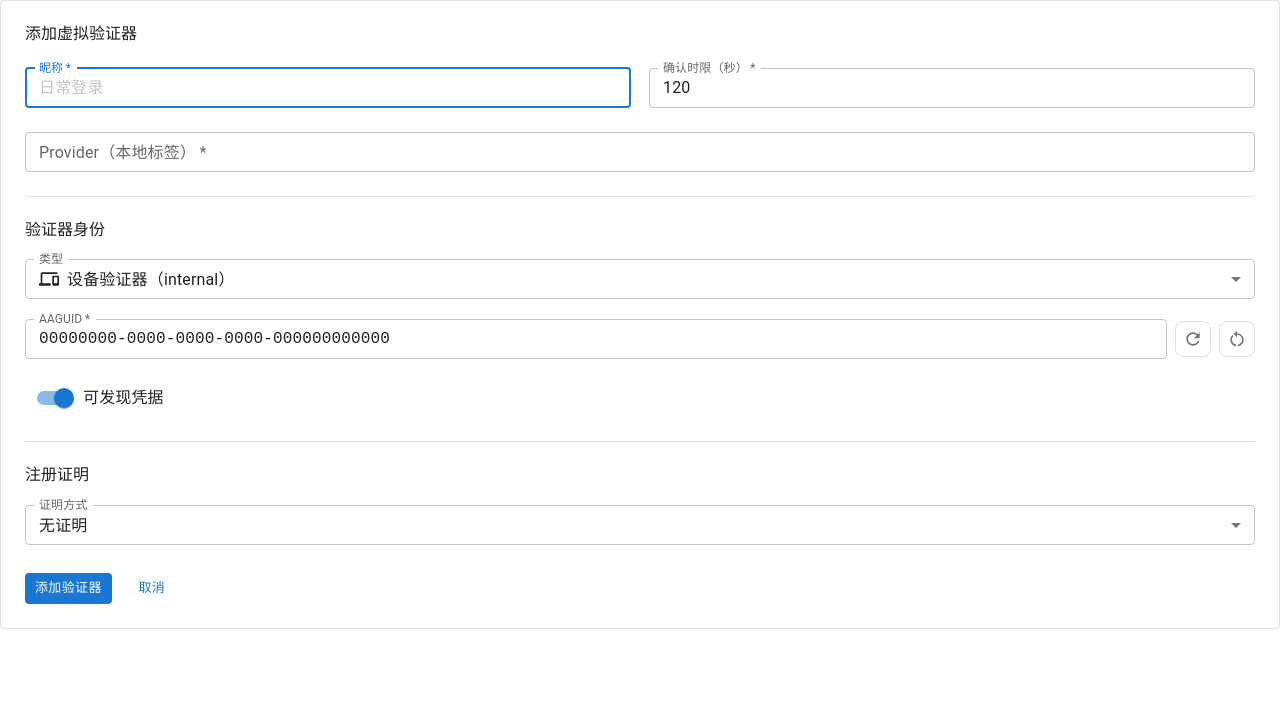
Test: Material UI key form › generates a v4 UUID and permits explicit zero identity
The width and height of the screenshot is (1280, 720).
Click the button named "随机生成 AAGUID".
click(1193, 339)  # box [1175,321,1211,357]
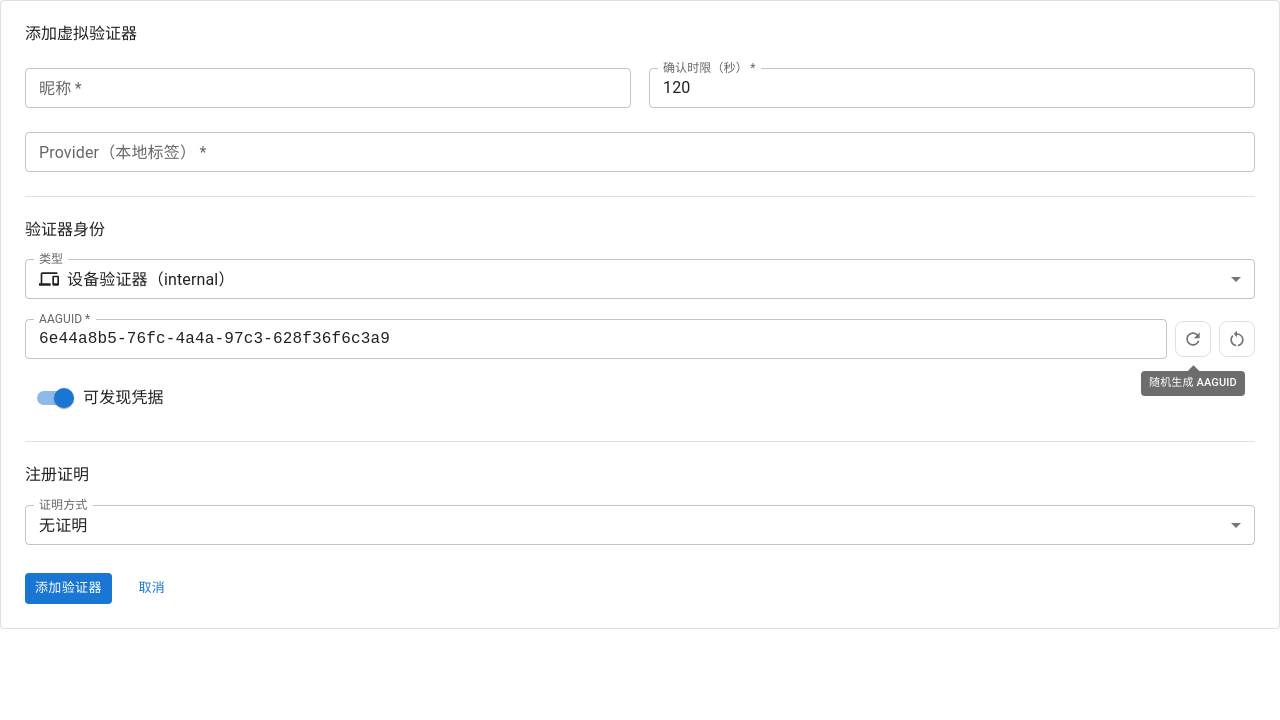
Click the button named "重置为全零 AAGUID".
click(1237, 339)  # box [1219,321,1255,357]
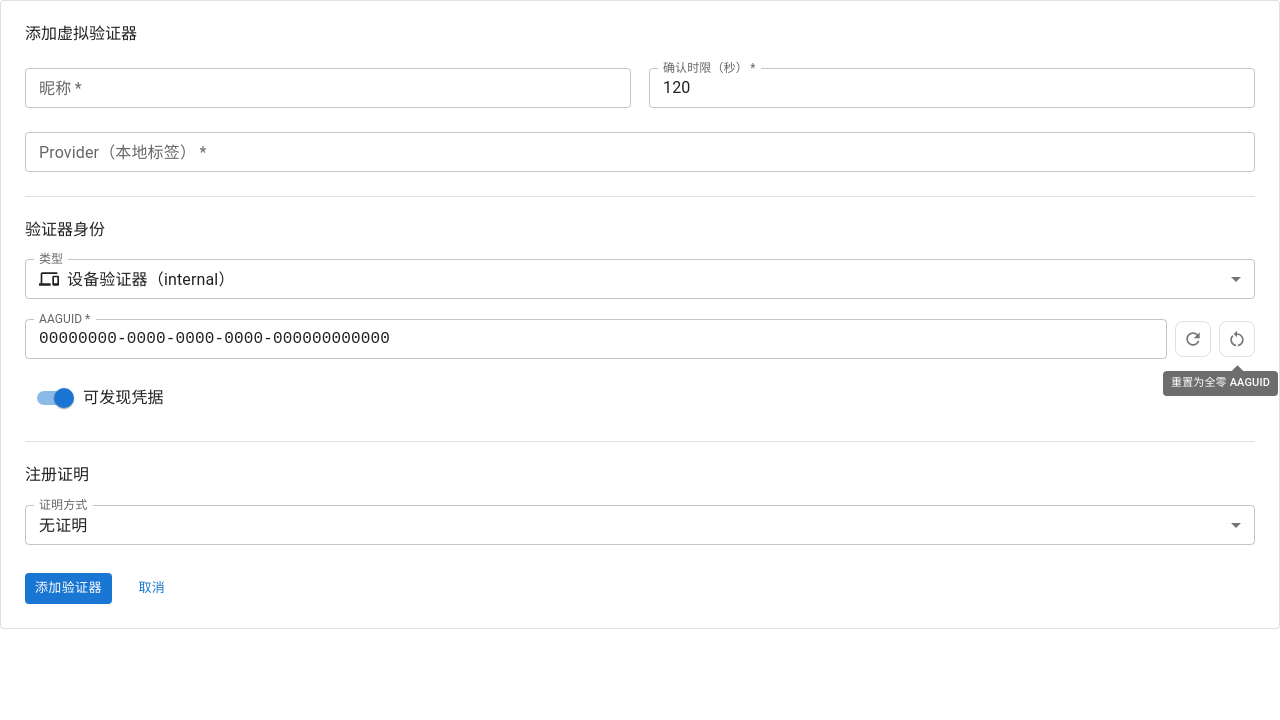
Check: the field labelled "AAGUID *" holds "00000000-0000-0000-0000-000000000000", box [25,319,1167,359]
